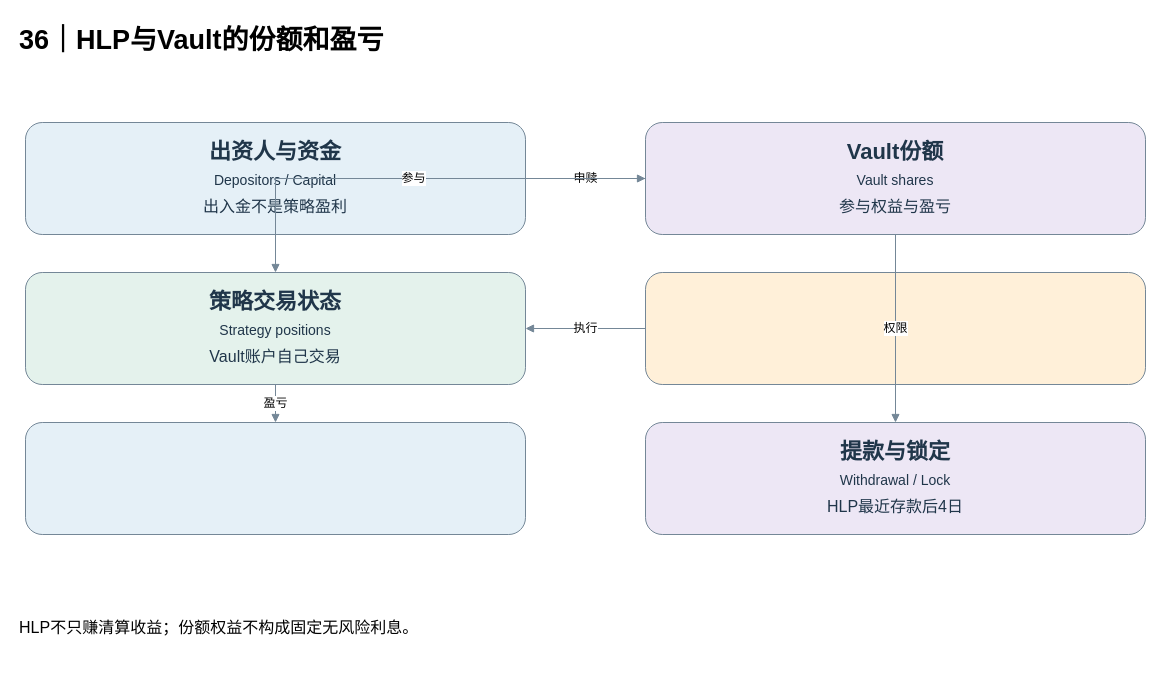
Some shapes in this 1170 by 690 pixel diagram are drawn without their labels. Here are the shapes that lost their labels. From the top down, the box of each, then its label:
(644, 272, 1146, 384): 策略与收入 HLP strategies 做市、清算、Earn与费用
(24, 422, 526, 534): 单位份额价值 Value per share 剔除申赎影响
